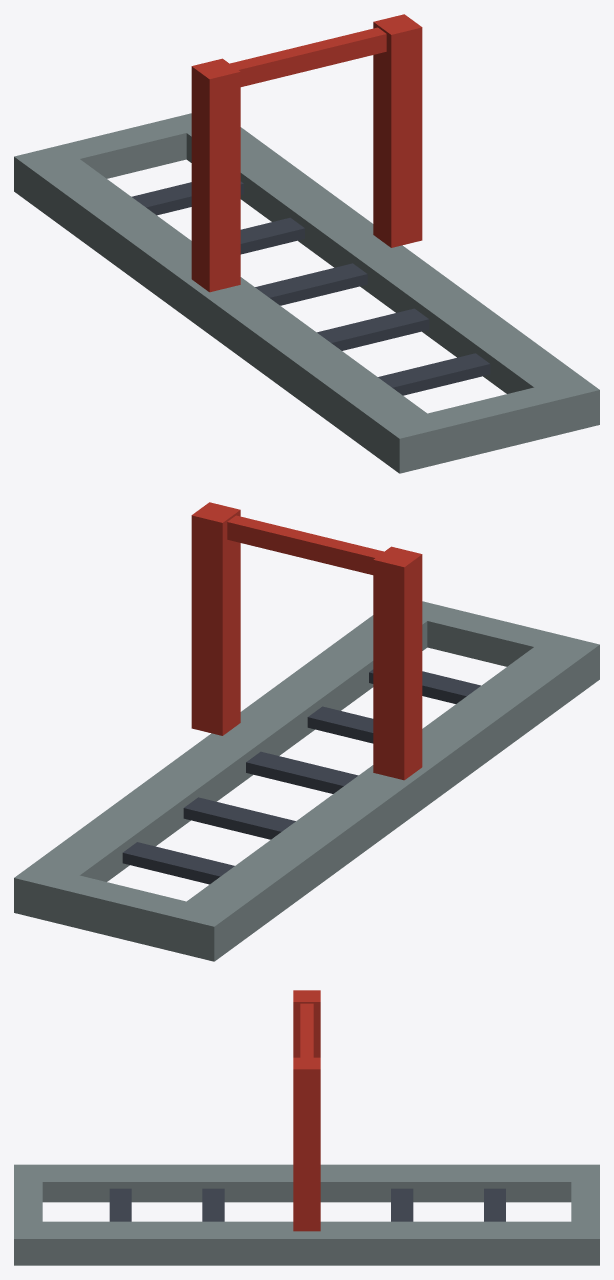
Rendered from bridge_part_02.FBX.
3 views of the same model, one above another, from view 1: azimuth 30°, elevation 25°; view 2: azimuth 150°, elevation 25°; view 3: azimuth 270°, elevation 25° (orthographic). The views are drawn at different scales.
Parts seen in each view (by area): view 1: bridge_part_02; view 2: bridge_part_02; view 3: bridge_part_02.
Part boxes in pixels (<box>): bridge_part_02: <box>14,14,599,473</box>; bridge_part_02: <box>14,502,599,961</box>; bridge_part_02: <box>14,990,599,1265</box>.
Size of the model in its own units: 638 by 2000 by 748.
Materials: 1 (1 with a texture image).
